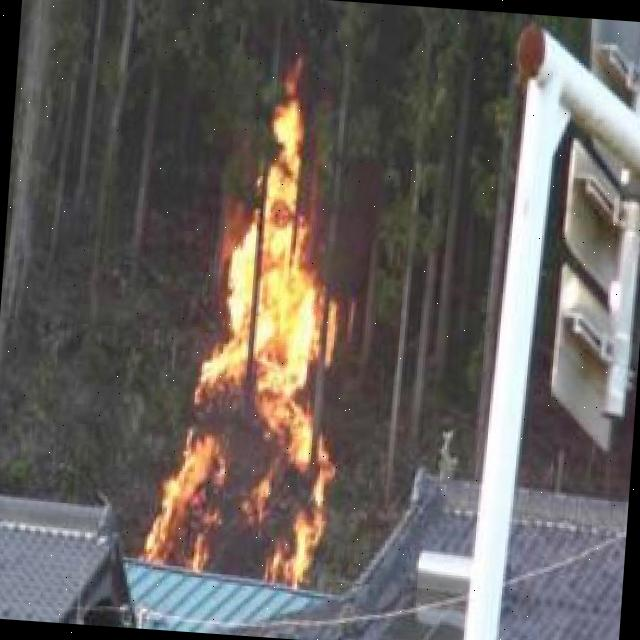fire: (144, 51, 364, 595)
